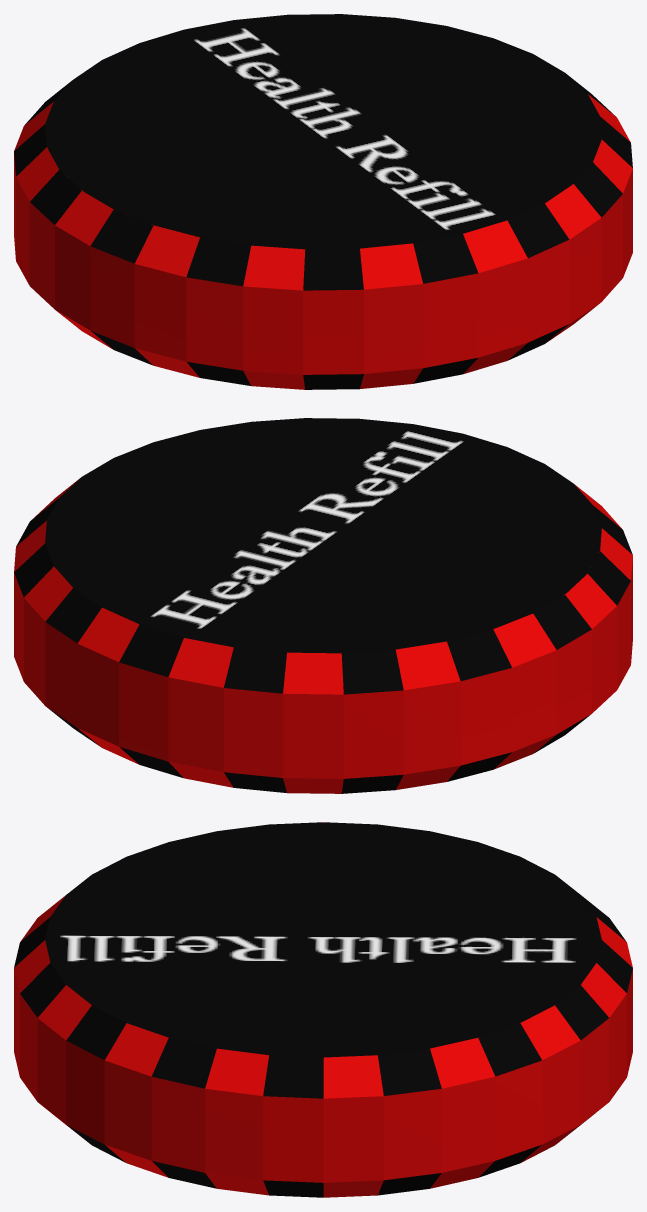
File: Health_Refill.fbx
3 renders of one model, top to bottom at view 1: azimuth 30°, elevation 25°; view 2: azimuth 150°, elevation 25°; view 3: azimuth 270°, elevation 25°, orthographic.
Visible parts, largest first — view 1: Cylinder; view 2: Cylinder; view 3: Cylinder.
Boxes of the visible parts, x1,y1,x2,y2 form: Cylinder: (14, 14, 632, 389); Cylinder: (14, 418, 632, 793); Cylinder: (14, 822, 632, 1197).
Size of the model in its own units: 200 by 50 by 200.
Materials: 1 (1 with a texture image).
